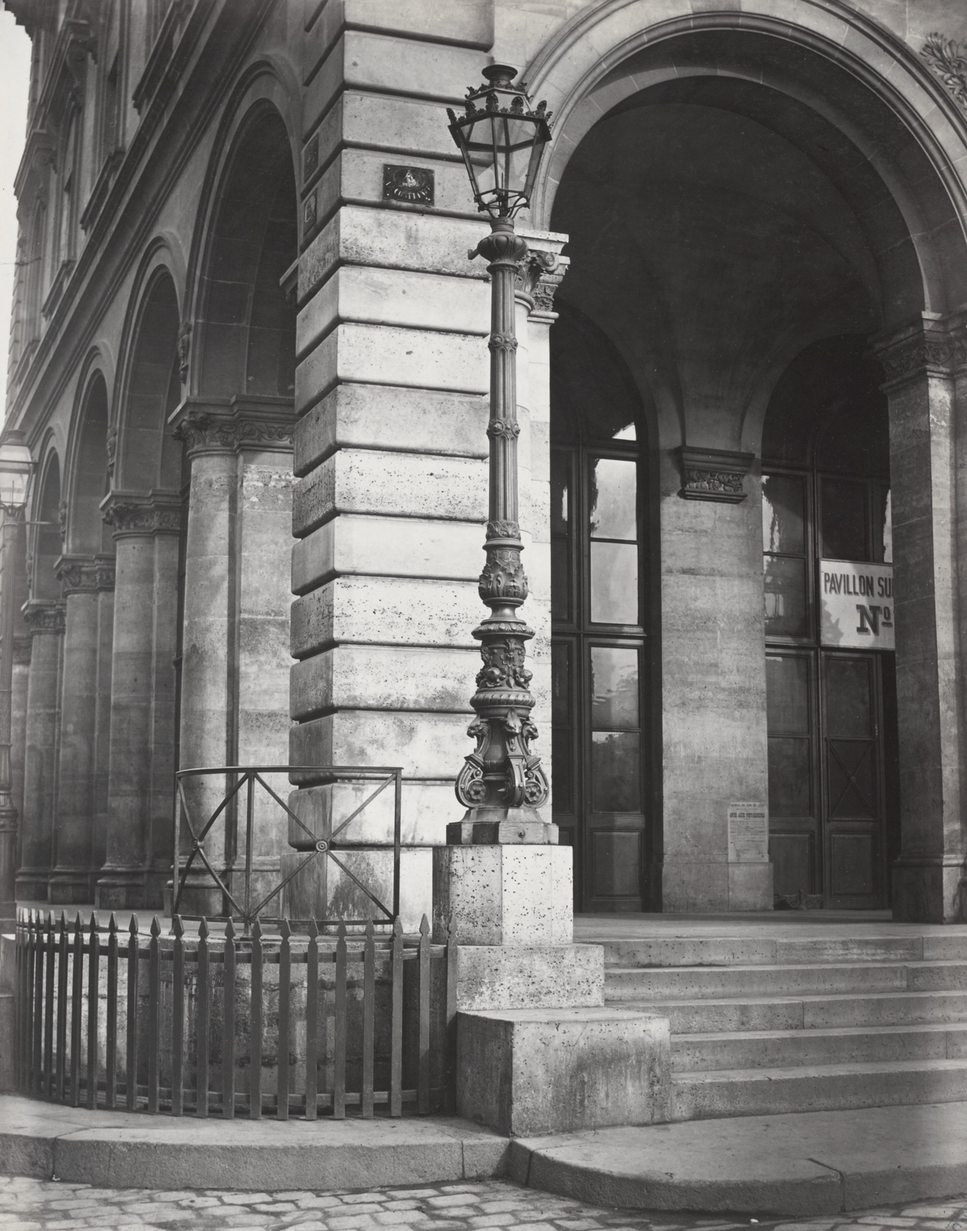fachada: (8, 8, 967, 1200)
poste: (438, 73, 608, 850)
